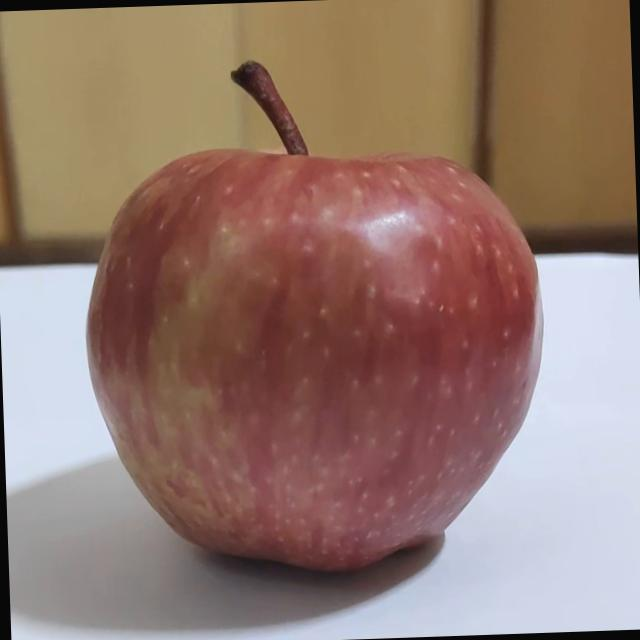apple: (70, 45, 554, 582)
